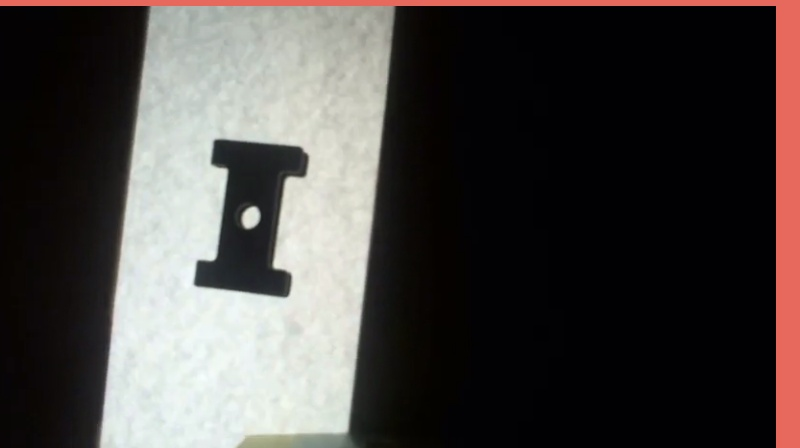O002: (190, 134, 310, 299)
